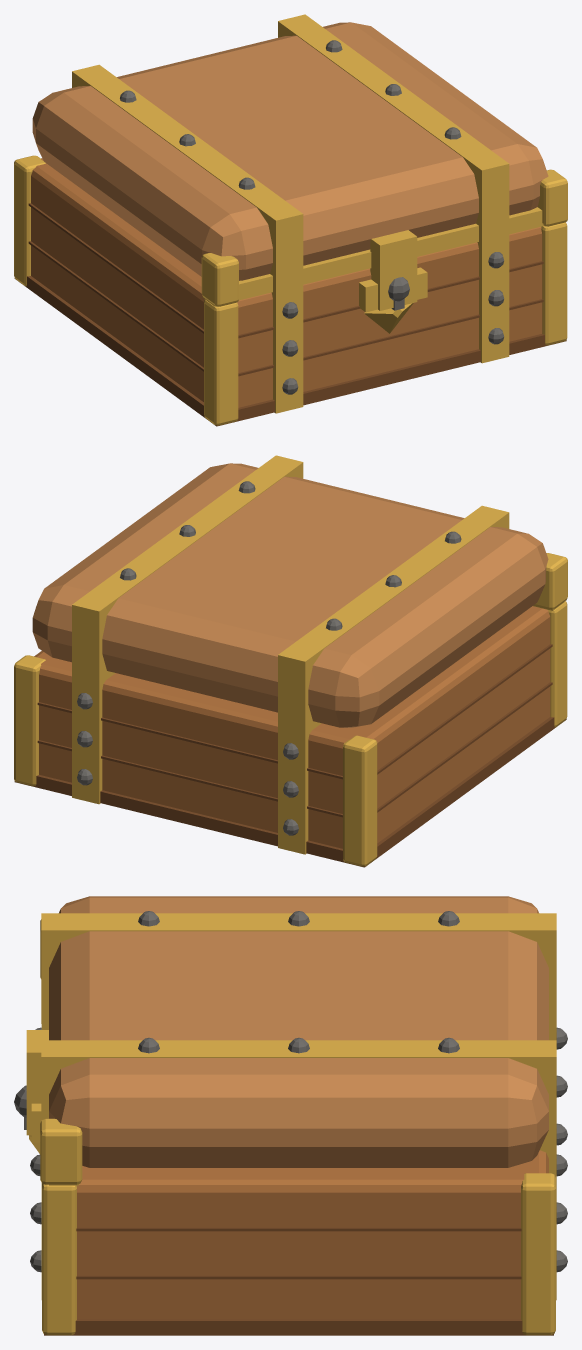
The model's file is chest_m.glb.
3 renders of one model, top to bottom at view 1: azimuth 30°, elevation 25°; view 2: azimuth 150°, elevation 25°; view 3: azimuth 270°, elevation 25°, orthographic. The views are drawn at different scales.
Visible parts, largest first — view 1: Lid, ChestM; view 2: Lid, ChestM; view 3: Lid, ChestM.
Part boxes in pixels (x1,y1,x2,y2): Lid: (32, 14, 567, 310); ChestM: (14, 155, 567, 426); Lid: (32, 455, 567, 735); ChestM: (14, 601, 567, 867); Lid: (26, 896, 556, 1185); ChestM: (14, 1022, 567, 1335).
Bounding box in the file's own units: 3.08 × 1.68 × 3.32.
